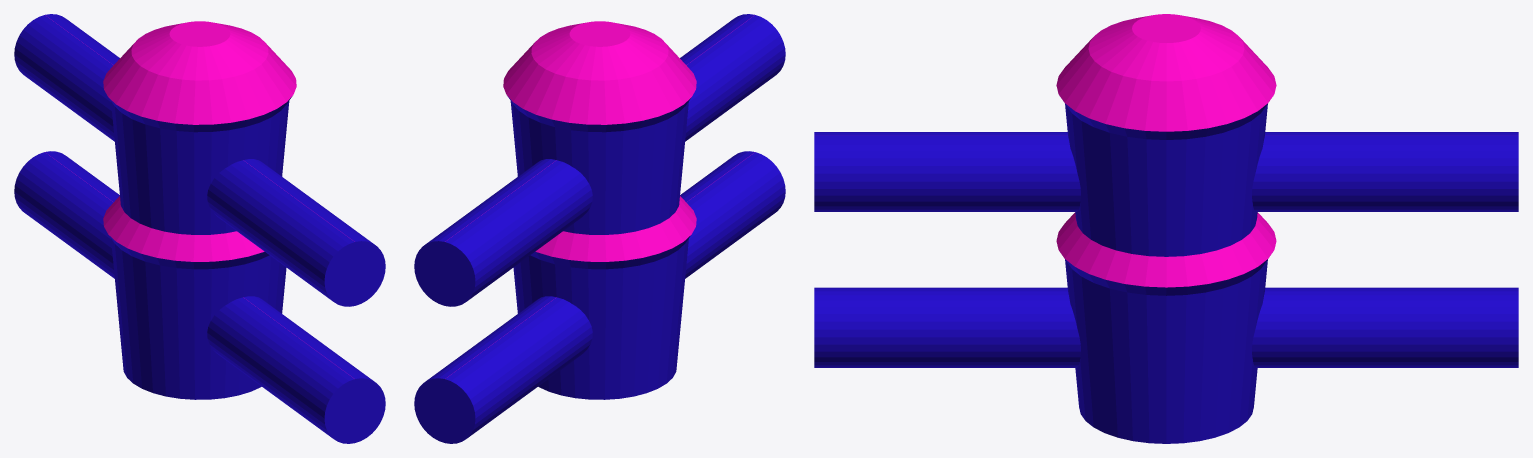
Rendered from turn2.obj.
3 renders of one model, left to right at view 1: azimuth 30°, elevation 25°; view 2: azimuth 150°, elevation 25°; view 3: azimuth 270°, elevation 25°, orthographic. The views are drawn at different scales.
Visible parts, largest first — view 1: Cylinder.001; view 2: Cylinder.001; view 3: Cylinder.001.
Part boxes in pixels (x1,y1,x2,y2): Cylinder.001: [14, 14, 385, 443]; Cylinder.001: [414, 14, 785, 443]; Cylinder.001: [814, 14, 1518, 443].
Size of the model in its own units: 2.52 by 4.77 by 8.06.
2 materials, 2 textured.
